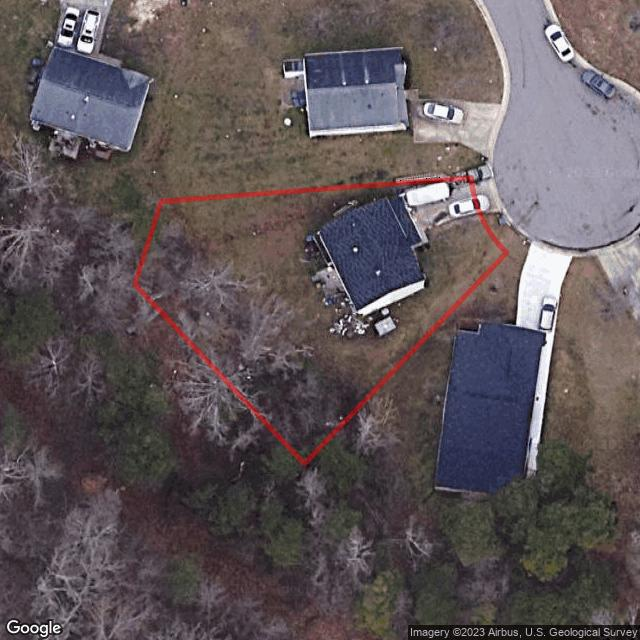Driveway: (400, 181, 476, 242)
Extra Driveway: (471, 163, 502, 212)
Extra Lawn: (482, 213, 523, 252)
House: (318, 198, 424, 314)
Other: (329, 297, 369, 337), (311, 266, 345, 302), (374, 316, 396, 336)
